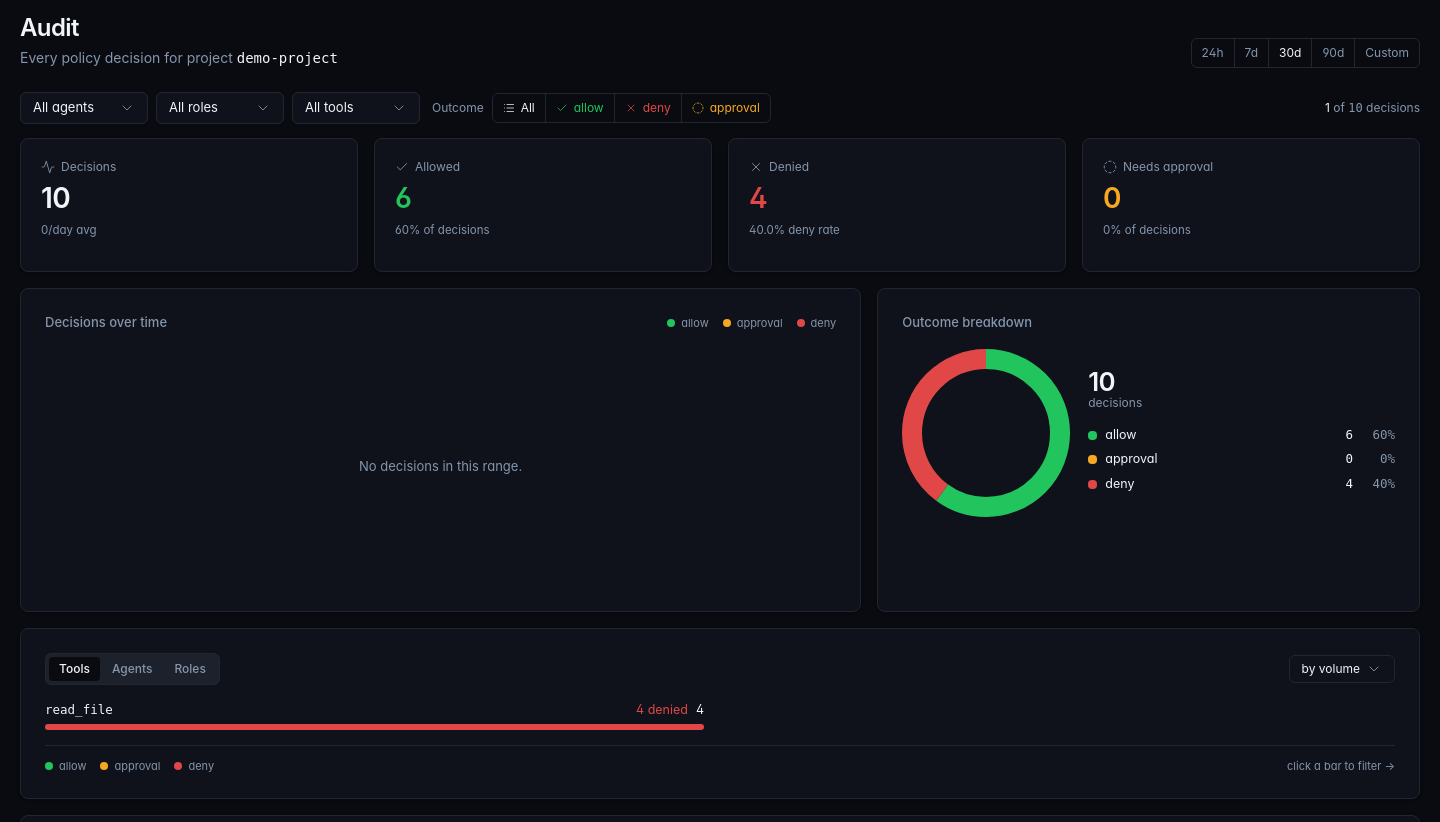
Scenario: AuditPage › date filter › clicking Custom opens a row showing the implied range label
Click the radio button "Custom".
click(1387, 53)  # box [1355,39,1419,67]
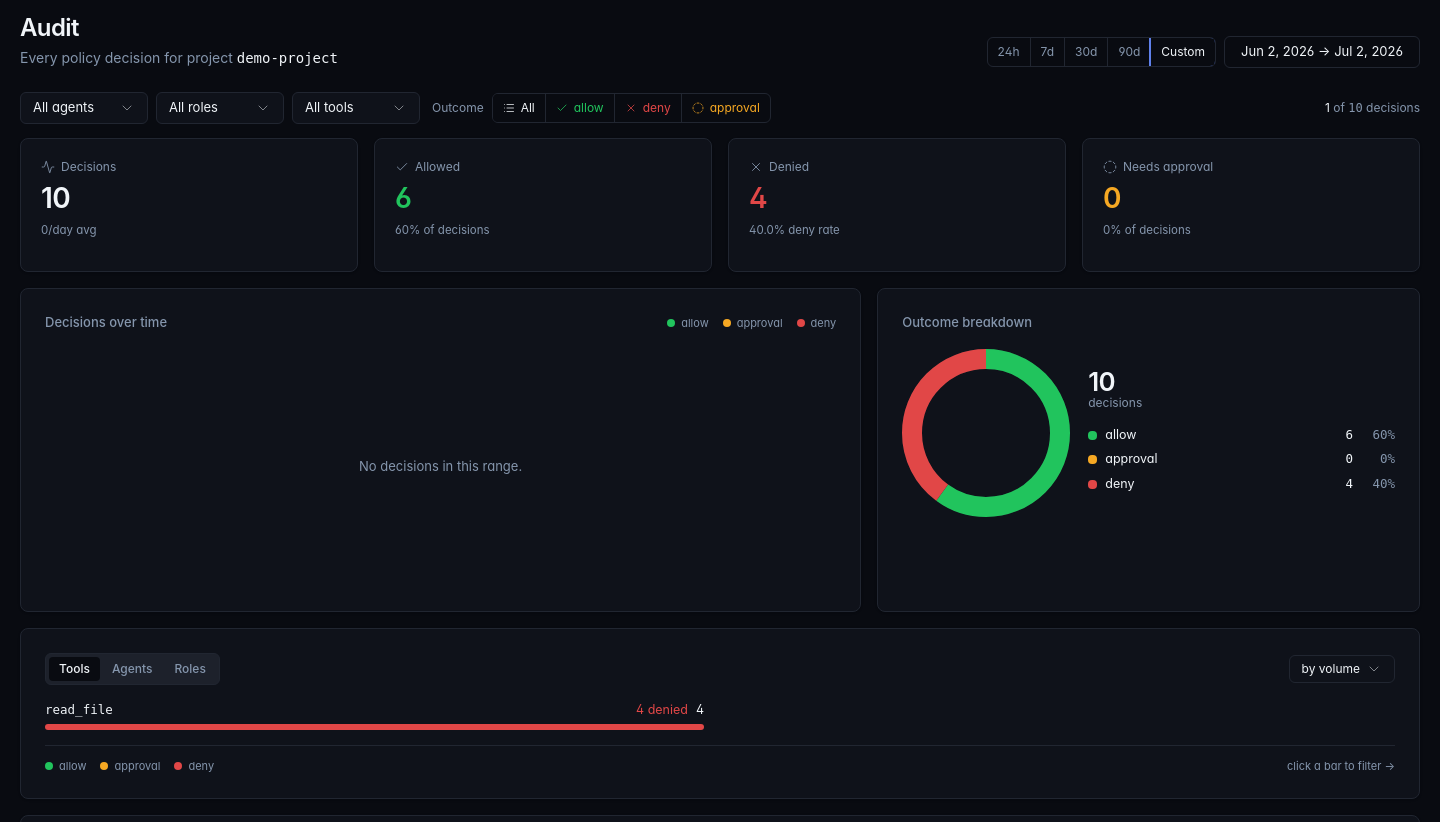
Check: the button "Jun 2, 2026 → Jul 2, 2026" is shown, box [1224,36,1420,68]
